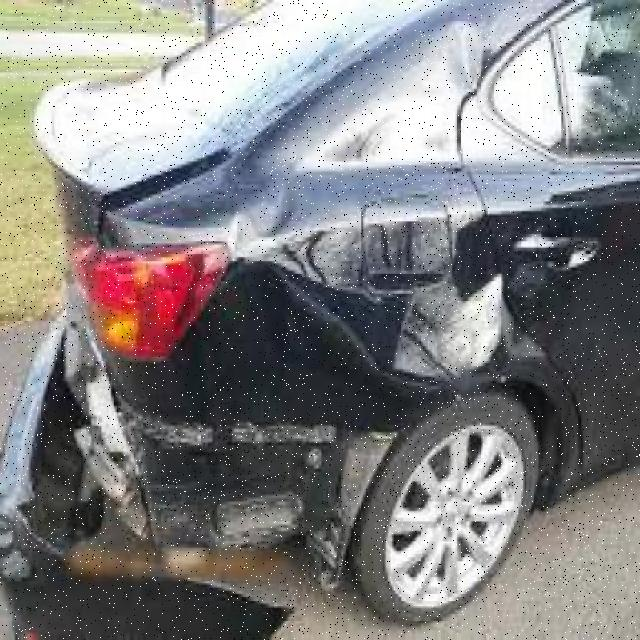damage: (0, 18, 564, 640)
